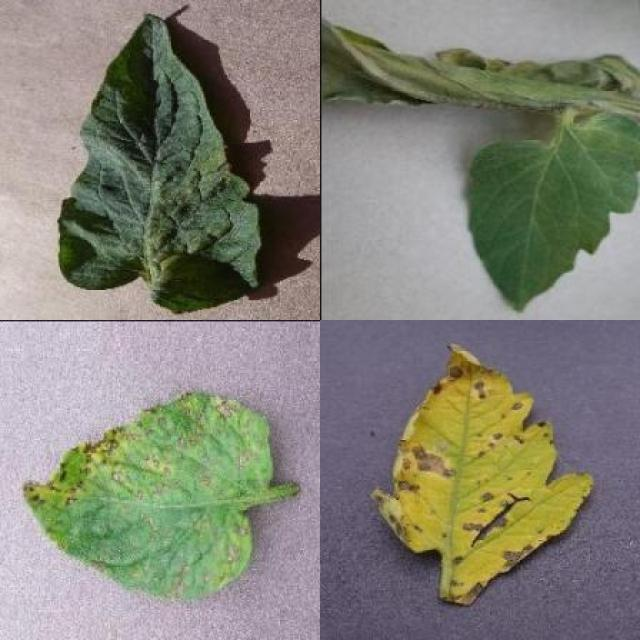Healthy: (463, 110, 640, 313)
Late Blight: (320, 17, 640, 110)
Septoria: (373, 344, 593, 606), (22, 392, 275, 602)
Spider Mites: (60, 13, 263, 316)
